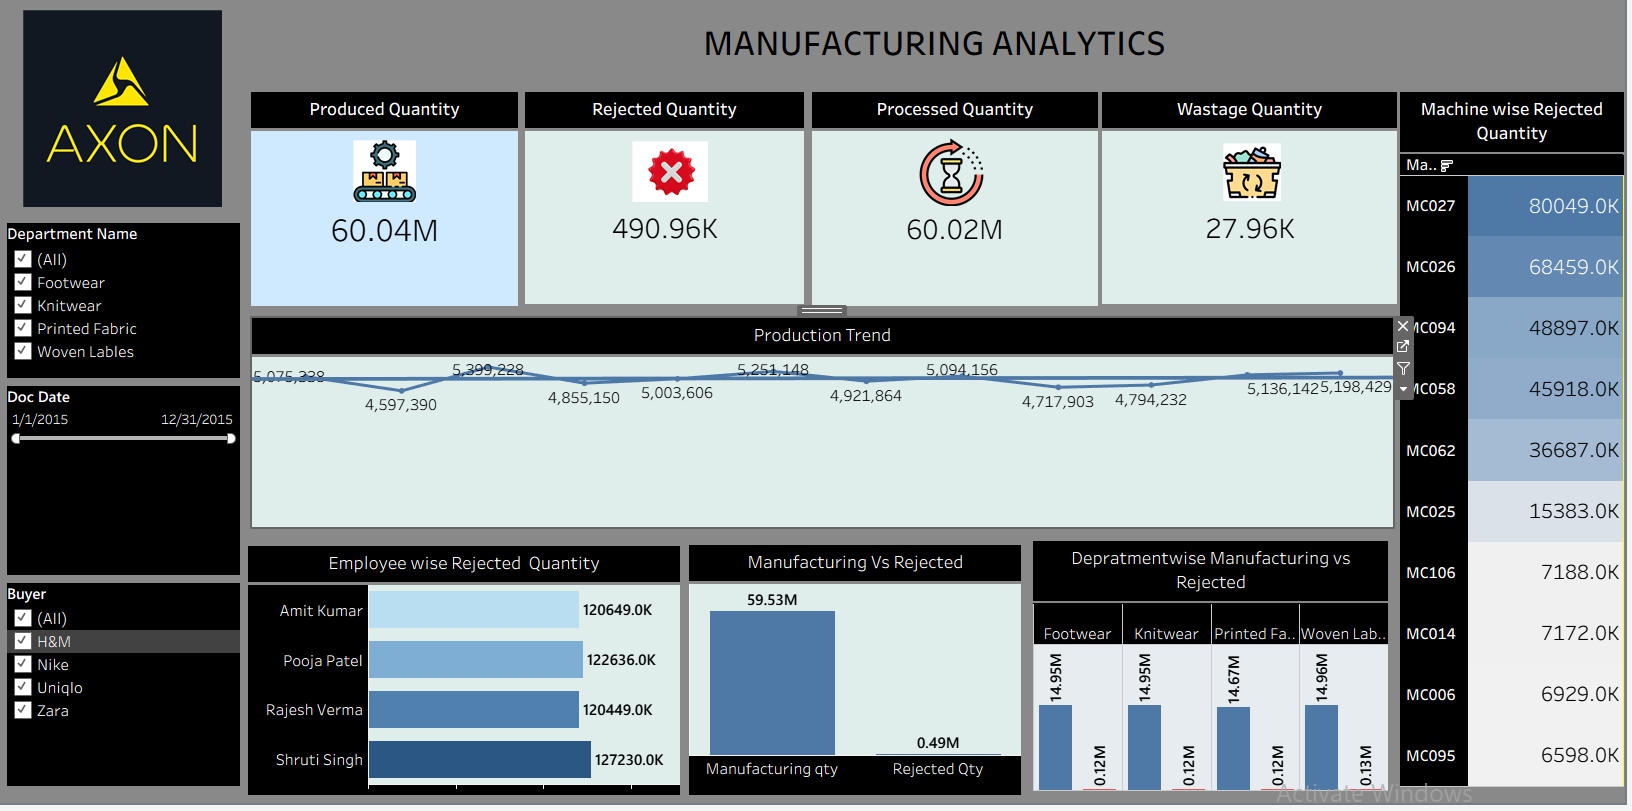

Layout of this report page (visuals, bound fields, positions):
{"tool":"tableau","page":{"name":"Dashboard 1","canvas":[1000,1000],"units":"permille","ordinal":0},"visuals":[{"type":"text","box":[155.4,10.2,838.4,87.8]},{"type":"dashboard-object","box":[3.6,14.3,143.9,244.9]},{"type":"worksheet","title":"Produced Quantity","mark":"Automatic","box":[154.5,116.3,164.3,265.3]},{"type":"worksheet","title":"Rejected Quantity","mark":"Automatic","box":[323.3,116.3,171.4,263.3]},{"type":"worksheet","title":"Processed Quantity","mark":"Automatic","box":[499.1,116.3,175.8,265.3]},{"type":"worksheet","title":"Wastage Quantity","mark":"Automatic","box":[677.6,116.3,181.2,263.3]},{"type":"worksheet","title":"Machine wise Rejected Quantity","mark":"Square","rows":["Machine_Code"],"box":[860.6,116.3,137.7,861.2]},{"type":"image","param":"Image/Processed icon.png","box":[556.8,173.5,56,83.7]},{"type":"image","param":"Image/produced qty.png","box":[217.6,175.5,39.1,77.5]},{"type":"image","param":"Image/rejection.jfif","box":[386.3,177.6,51.5,75.5]},{"type":"image","param":"Image/wastage.png","box":[744.2,179.6,50.6,71.4]},{"type":"filter","title":"Employee wise Rejected Quantity","param":"[federated.11p4e6t1ywob0l15faut60msm7h8].[none:Department_Name:nk]","box":[2.7,273.5,148.3,263.3]},{"type":"worksheet","title":"Production Trend","mark":"Automatic","rows":["Produced_Qty"],"cols":["Doc_Date"],"box":[155.4,395.9,700.7,259.2]},{"type":"filter","title":"Production Trend","param":"[federated.11p4e6t1ywob0l15faut60msm7h8].[none:Doc_Date:qk]","box":[2.7,536.7,148.3,179.6]},{"type":"worksheet","title":"Departmentwise M vs R","mark":"Automatic","cols":["Department_Name"],"box":[635,673.5,218.5,310.2]},{"type":"worksheet","title":"Manufacturing vs Rejected ","mark":"Automatic","box":[423.6,677.6,204.3,310.2]},{"type":"worksheet","title":"Employee wise Rejected Quantity","mark":"Automatic","rows":["Emp_Name"],"cols":["Rejected_Qty"],"box":[152.8,679.6,265.5,308.2]},{"type":"filter","title":"Production Trend","param":"[federated.11p4e6t1ywob0l15faut60msm7h8].[none:Buyer:nk]","box":[2.7,716.3,148.3,265.3]}]}

Visuals, with their boxes on the dashboard's canvas, which has no fixed pixel size, in thousandths of its width and height (x1, y1, x2, y2). These are canvas units, not pixel positions in the 1632x811 screenshot, which may show the page scaled, cropped or inside an application window:
text: (left=155, top=10, right=994, bottom=98)
dashboard-object: (left=4, top=14, right=148, bottom=259)
"Produced Quantity" worksheet: (left=154, top=116, right=319, bottom=382)
"Rejected Quantity" worksheet: (left=323, top=116, right=495, bottom=380)
"Processed Quantity" worksheet: (left=499, top=116, right=675, bottom=382)
"Wastage Quantity" worksheet: (left=678, top=116, right=859, bottom=380)
"Machine wise Rejected Quantity" worksheet (Square marks): (left=861, top=116, right=998, bottom=978)
image: (left=557, top=174, right=613, bottom=257)
image: (left=218, top=176, right=257, bottom=253)
image: (left=386, top=178, right=438, bottom=253)
image: (left=744, top=180, right=795, bottom=251)
"Employee wise Rejected Quantity" filter: (left=3, top=274, right=151, bottom=537)
"Production Trend" worksheet: (left=155, top=396, right=856, bottom=655)
"Production Trend" filter: (left=3, top=537, right=151, bottom=716)
"Departmentwise M vs R" worksheet: (left=635, top=674, right=854, bottom=984)
"Manufacturing vs Rejected " worksheet: (left=424, top=678, right=628, bottom=988)
"Employee wise Rejected Quantity" worksheet: (left=153, top=680, right=418, bottom=988)
"Production Trend" filter: (left=3, top=716, right=151, bottom=982)
